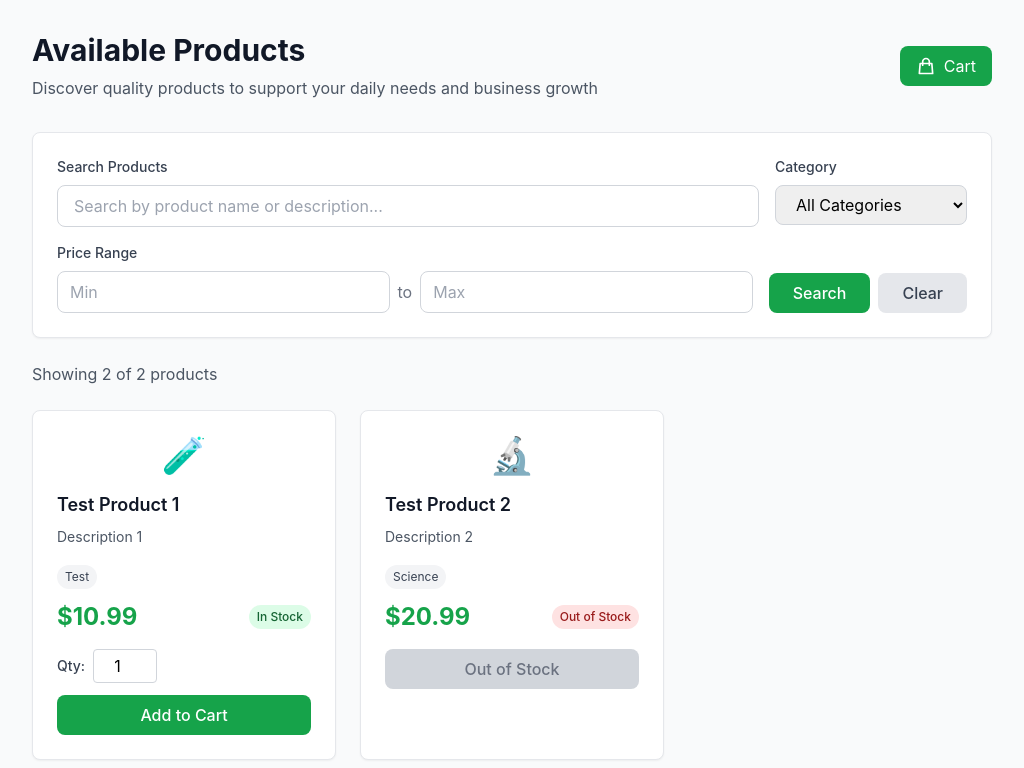
Test: ProductsPage › search functionality filters products
Expected: the heading "Test Product 1" is shown, x1=57 y1=494 x2=180 y2=515
Type "Product 1" into the field labelled "Search Products".
click(408, 206); type("Product 1")  # box x1=57 y1=185 x2=759 y2=227
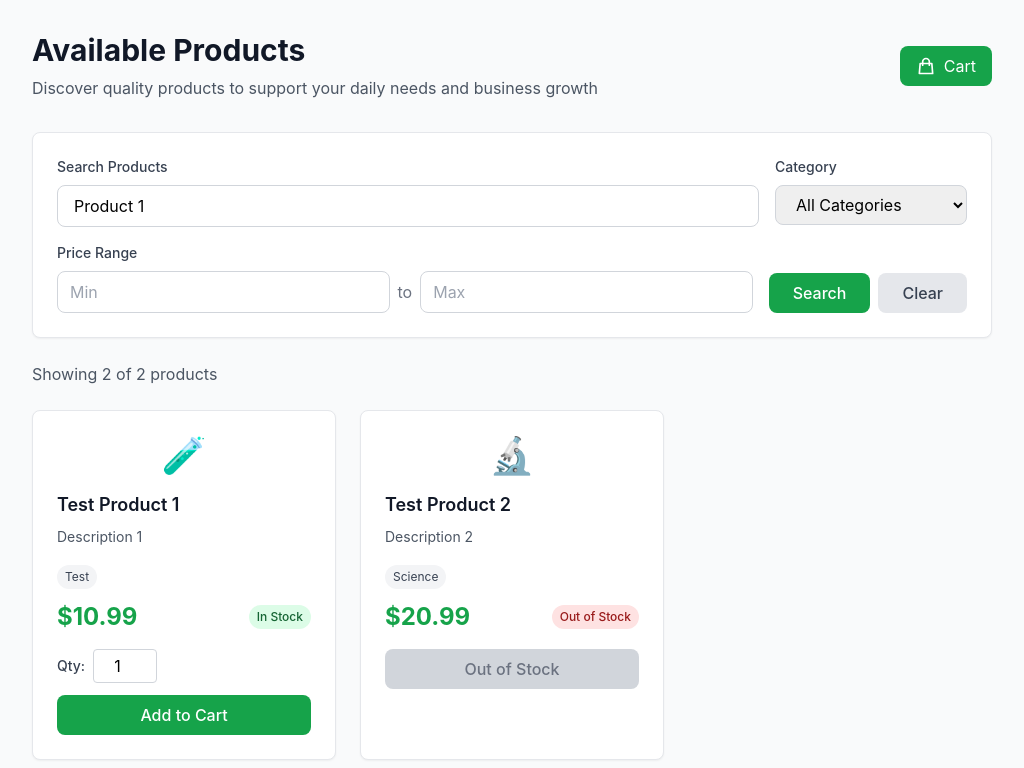
Click the button "Search".
click(820, 293)  # box x1=769 y1=273 x2=870 y2=313
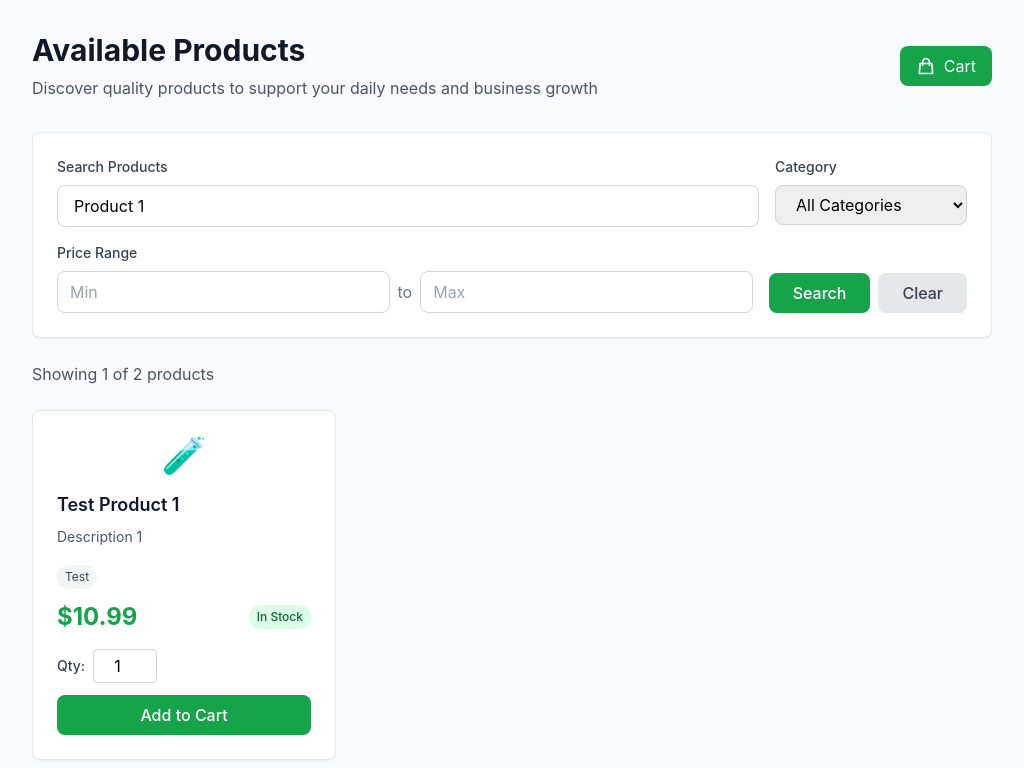
Expected: the heading "Test Product 1" is shown, x1=57 y1=494 x2=180 y2=515
Result: the heading "Test Product 2" is gone
Result: the text "Showing 1 of 2 products" is shown at x1=32 y1=364 x2=214 y2=384
